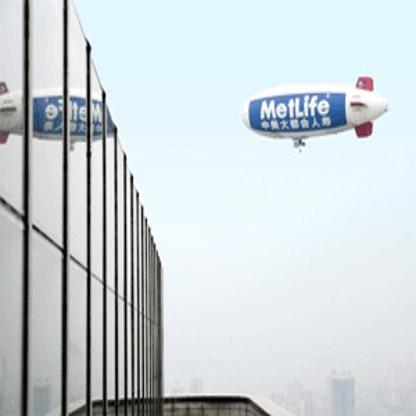Airship: (239, 73, 394, 152)
